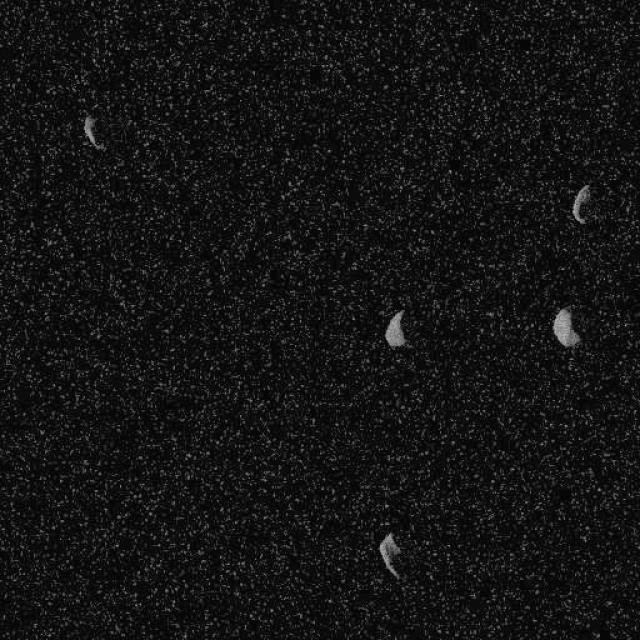D2: (378, 530, 403, 581), (551, 305, 581, 347), (382, 309, 408, 349), (81, 112, 104, 150), (570, 184, 591, 224)
